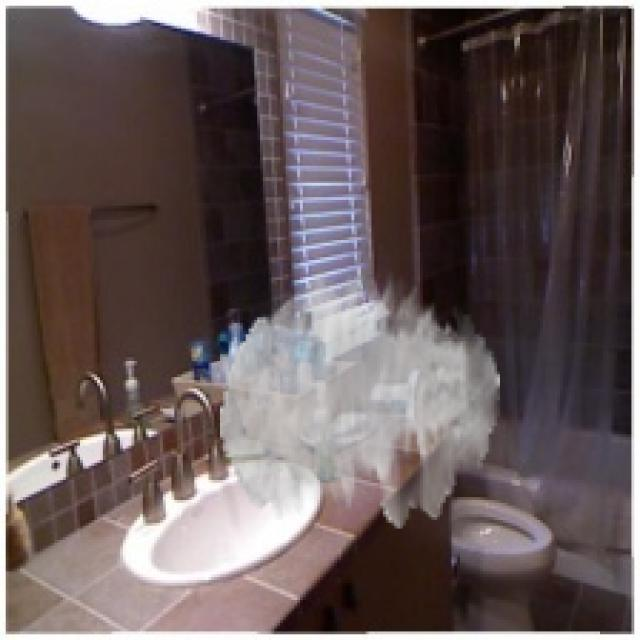smoke: (220, 268, 500, 528)
